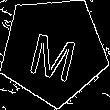M_N: (26, 20, 82, 81)
